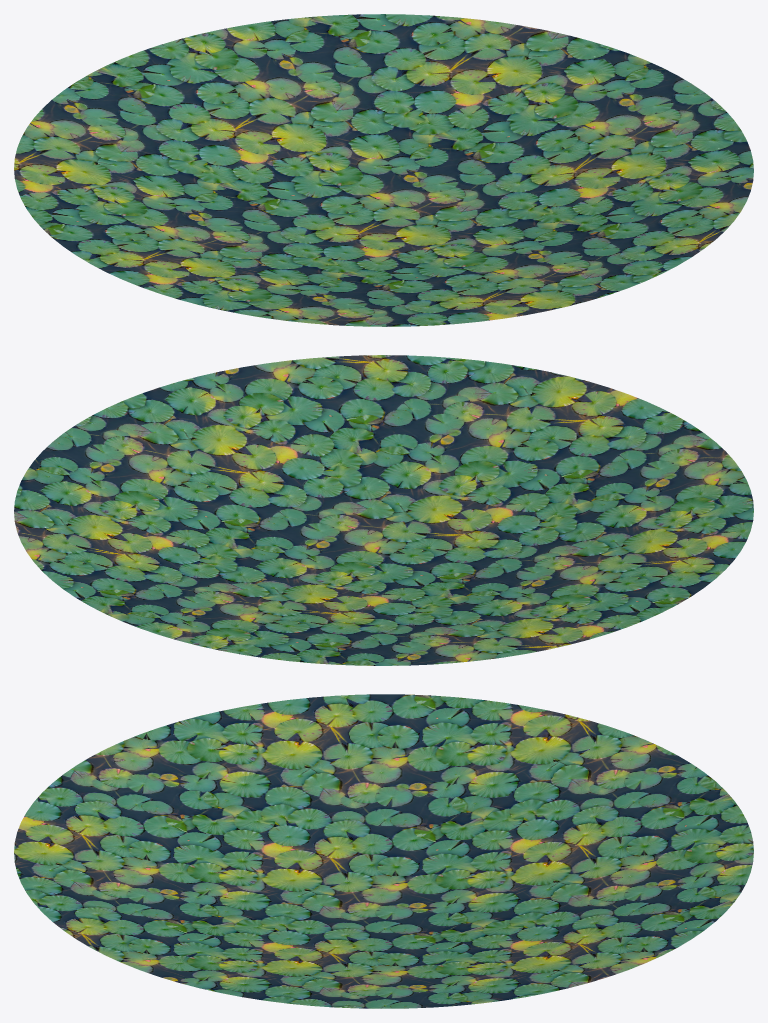
The model's file is water_system.glb.
The picture shows the model from 3 angles, top to bottom: view 1: azimuth 30°, elevation 25°; view 2: azimuth 150°, elevation 25°; view 3: azimuth 270°, elevation 25°; orthographic projection.
Parts seen in each view (by area): view 1: Object_2; view 2: Object_2; view 3: Object_2.
Boxes of the visible parts, x1=… form: Object_2: x1=14, y1=14, x2=753, y2=326; Object_2: x1=14, y1=355, x2=753, y2=665; Object_2: x1=14, y1=694, x2=753, y2=1008.
Size of the model in its own units: 1316 by 67 by 1316.
1 material, 1 textured.
